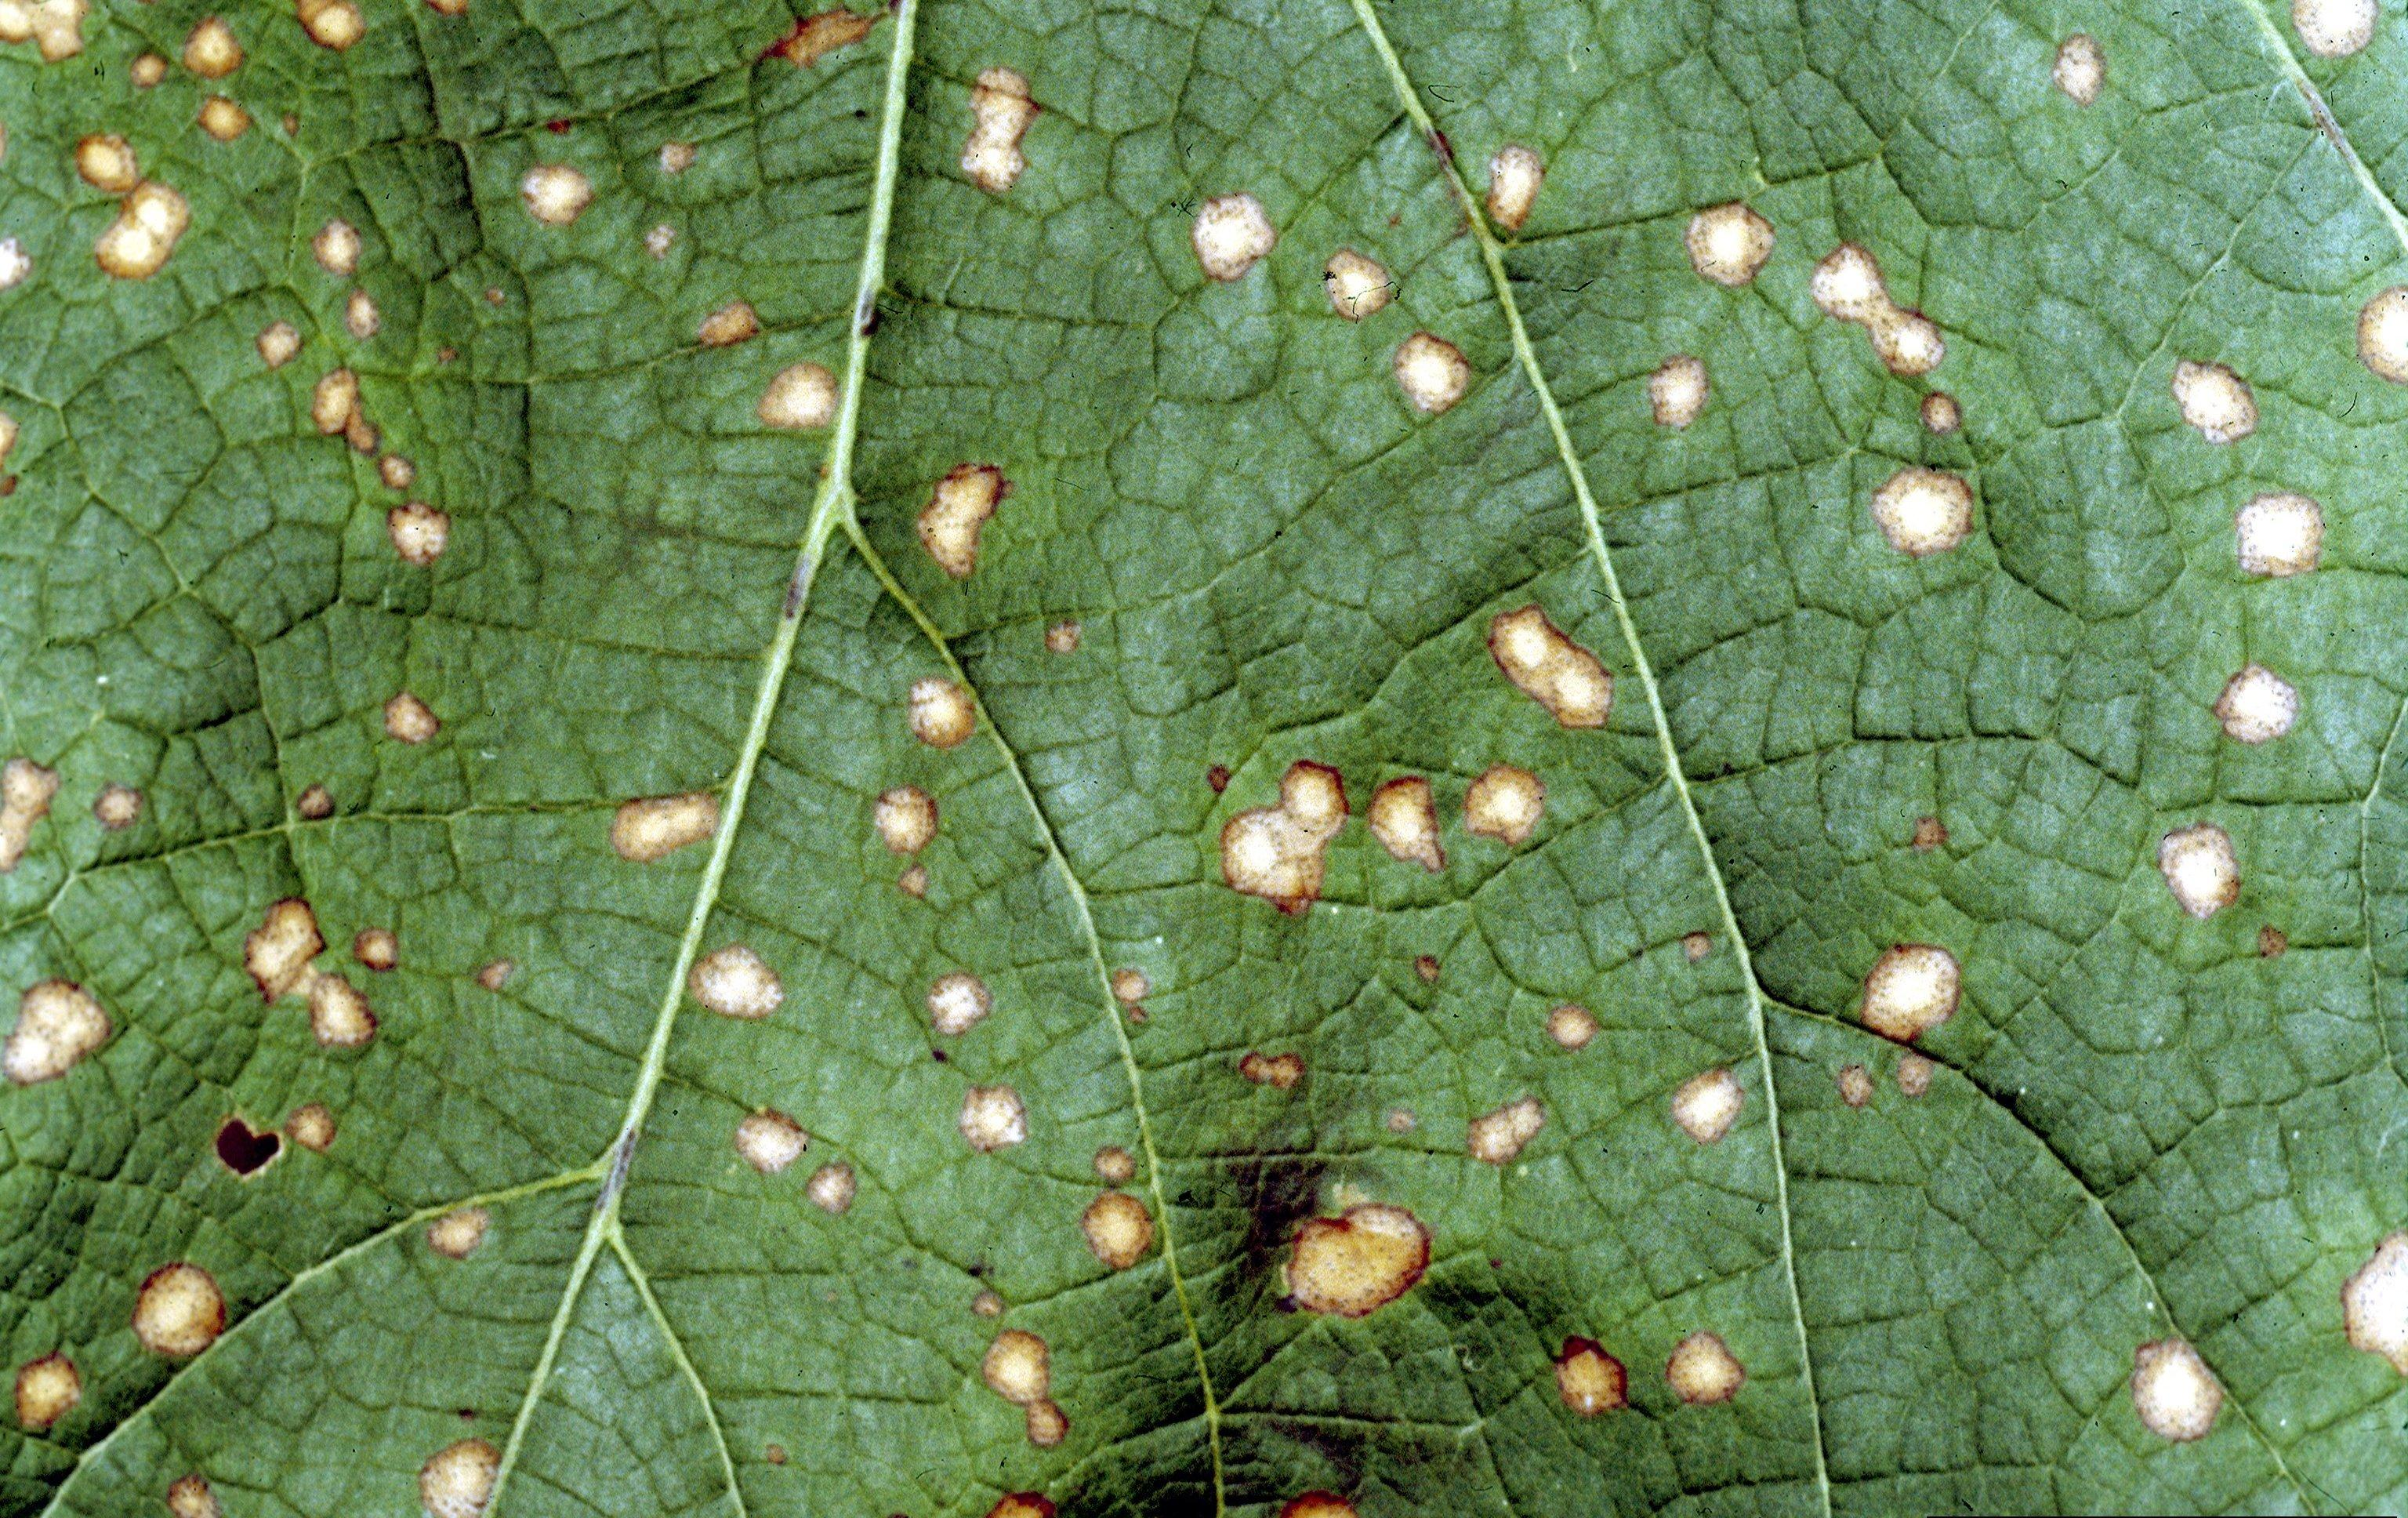grape leaf: (5, 12, 2382, 1518)
